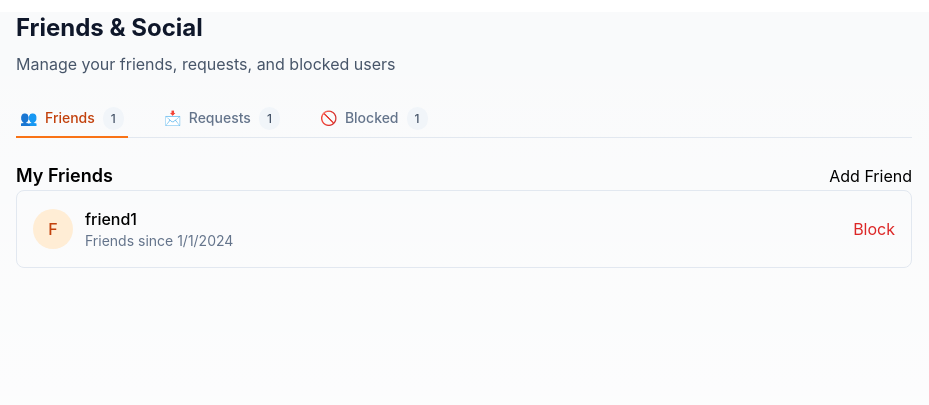
FriendsAndSocial › shows add friend form when button is clicked
This screenshot has width=929, height=405.
Click the button "Add Friend": [871, 176] box [829, 164, 912, 188]
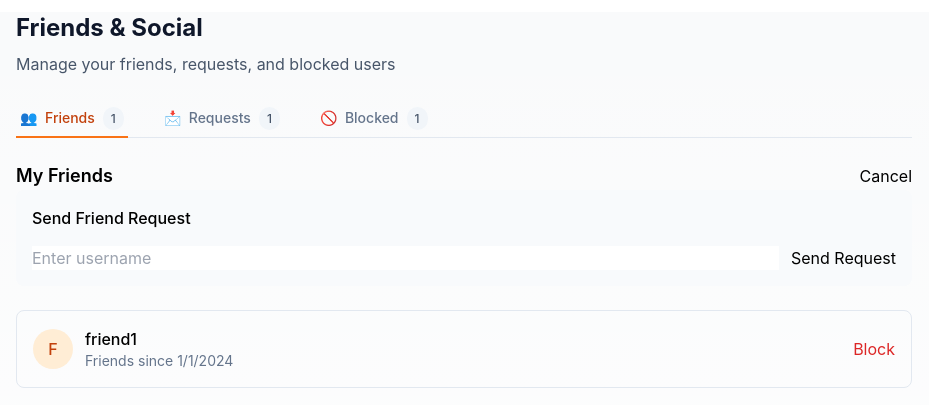
Result: the heading "Send Friend Request" is shown at [32, 208, 191, 228]
Result: the field with placeholder "Enter username" is shown at [32, 246, 779, 270]
Result: the button "Send Request" is shown at [791, 246, 896, 270]
